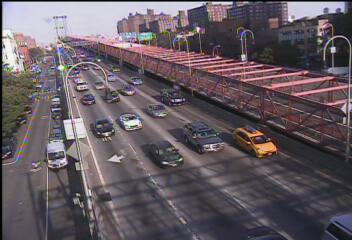neg: (101, 176, 126, 210), (33, 106, 58, 139), (255, 171, 278, 201), (278, 63, 300, 93), (62, 150, 84, 179), (207, 184, 229, 212), (212, 45, 232, 72), (155, 44, 175, 71), (13, 35, 32, 61), (235, 119, 254, 144), (295, 133, 314, 158), (139, 105, 157, 129), (247, 82, 265, 106), (89, 27, 107, 51), (160, 193, 178, 217), (52, 67, 69, 90), (102, 71, 118, 93), (51, 18, 66, 38), (186, 127, 200, 146)
